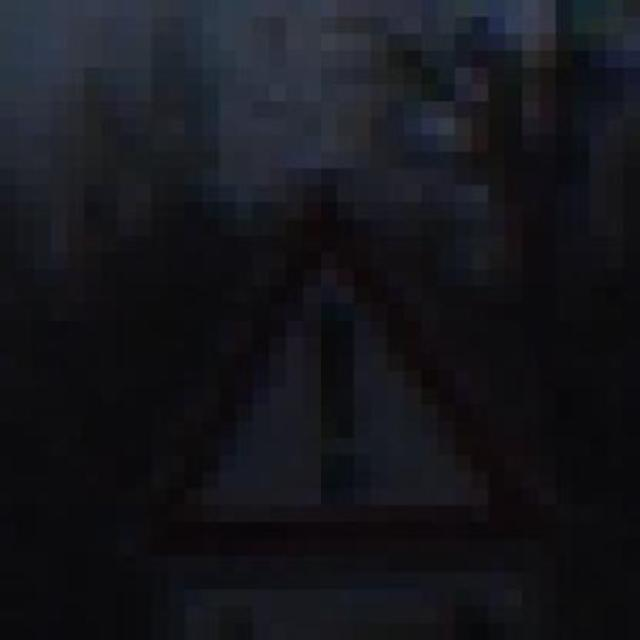Attention Please-: (101, 186, 522, 556)
